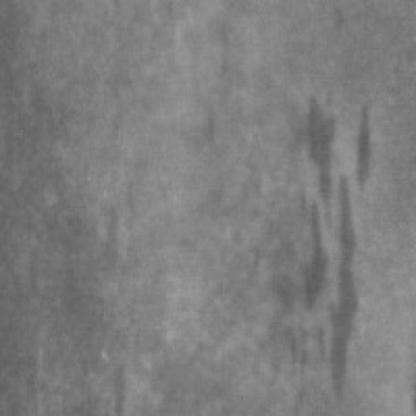inclusion: (279, 87, 372, 406)
